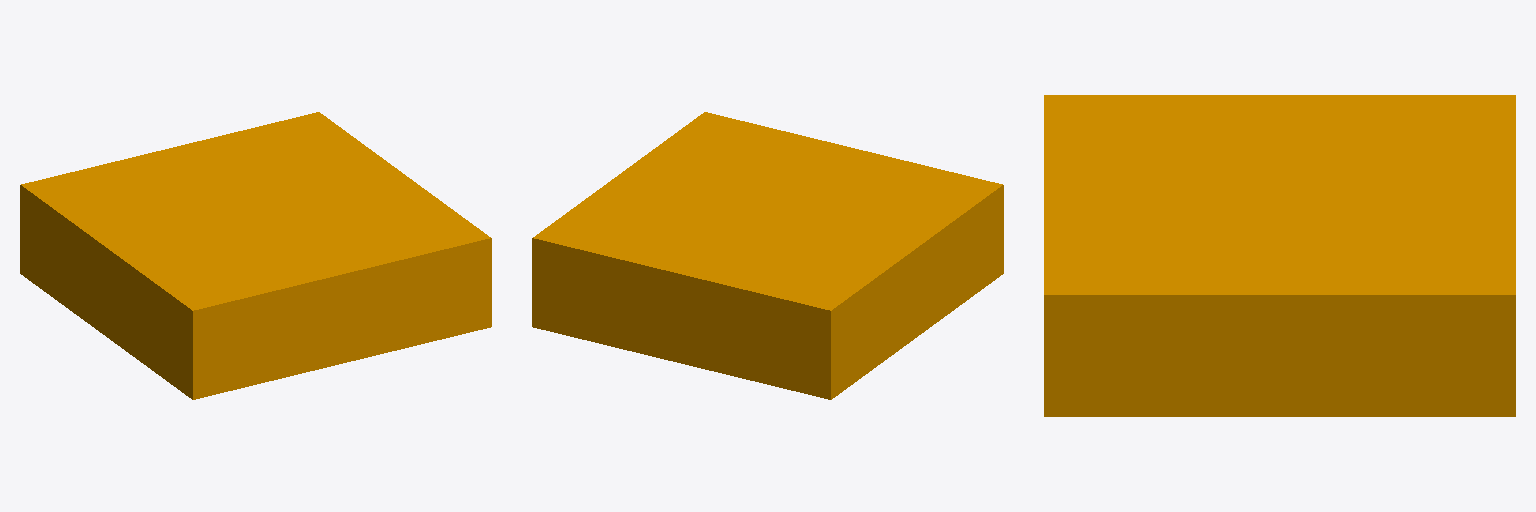
The robot description file, URDF, robot "2x2":
<?xml version='1.0' encoding='UTF-8'?>
<robot name="2x2">
  <link name="base_link">
    <inertial>
      <origin xyz="0.0 0.0 0.0" rpy="0.0 0.0 0.0"/>
      <mass value="0.01"/>
      <inertia ixx="0.1" ixy="0.0" ixz="0.0" iyy="0.1" iyz="0.0" izz="0.1"/>
    </inertial>
    <visual>
      <geometry>
        <box size="0.042 0.042 0.012"/>
      </geometry>
      <material name=""/>
      <origin xyz="0.0 0.0 0.0" rpy="0.0 0.0 0.0"/>
    </visual>
    <collision>
      <geometry>
        <box size="0.042 0.042 0.012"/>
      </geometry>
      <origin xyz="0.0 0.0 0.0" rpy="0.0 0.0 0.0"/>
    </collision>
  </link>
  <material name="">
    <color rgba="0.539 0.687 0.89  1.   "/>
  </material>
  <contact>
    <lateral_friction value="1.0"/>
    <rolling_friction value="0.0"/>
    <contact_cfm value="0.0"/>
    <contact_erp value="1.0"/>
  </contact>
</robot>

--- Render facts (derived) ---
The picture shows the robot from 3 angles, left to right: view 1: azimuth 30°, elevation 25°; view 2: azimuth 150°, elevation 25°; view 3: azimuth 270°, elevation 25°; orthographic projection.
Robot: 2x2 — 1 links, 0 joints (none); root link base_link; default pose: all joints at 0.
Links seen in each view (by area): view 1: base_link; view 2: base_link; view 3: base_link.
Boxes of the visible links, left/top/right/bottom form: base_link: left=20, top=112, right=491, bottom=399; base_link: left=532, top=112, right=1003, bottom=399; base_link: left=1044, top=95, right=1515, bottom=416.
Bounding box of the posed robot: 0.042 × 0.042 × 0.012 m (x, y, z).
Geometry: primitives only (box / cylinder / sphere), no mesh files.